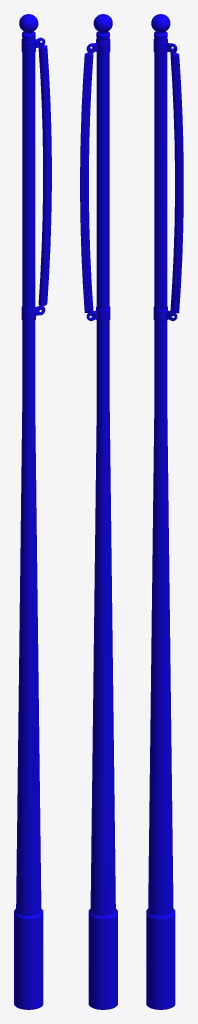
File: uploads_files_1027914_NEEDLE_02.FBX
3 renders of one model, left to right at view 1: azimuth 30°, elevation 25°; view 2: azimuth 210°, elevation 25°; view 3: azimuth 330°, elevation 25°, orthographic.
Parts seen in each view (by area): view 1: Needle_02, Connect, Detail, Object001; view 2: Needle_02, Connect, Detail, Object001; view 3: Needle_02, Connect, Detail, Object001.
Boxes of the visible parts, <box> form: Needle_02: <box>14,38,43,1009</box>; Connect: <box>38,42,51,310</box>; Detail: <box>21,37,45,321</box>; Object001: <box>19,14,38,39</box>; Needle_02: <box>88,38,117,1009</box>; Connect: <box>80,48,93,316</box>; Detail: <box>86,39,110,321</box>; Object001: <box>93,14,112,39</box>; Needle_02: <box>146,38,175,1009</box>; Connect: <box>170,48,183,316</box>; Detail: <box>153,39,177,321</box>; Object001: <box>151,14,170,39</box>.
Bounding box in the file's own units: 14.49 × 384 × 10.29.
